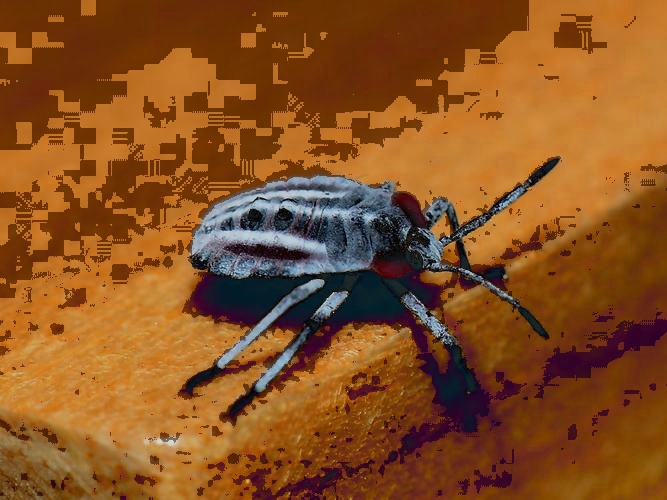Stink_Bug: (207, 165, 497, 307)
